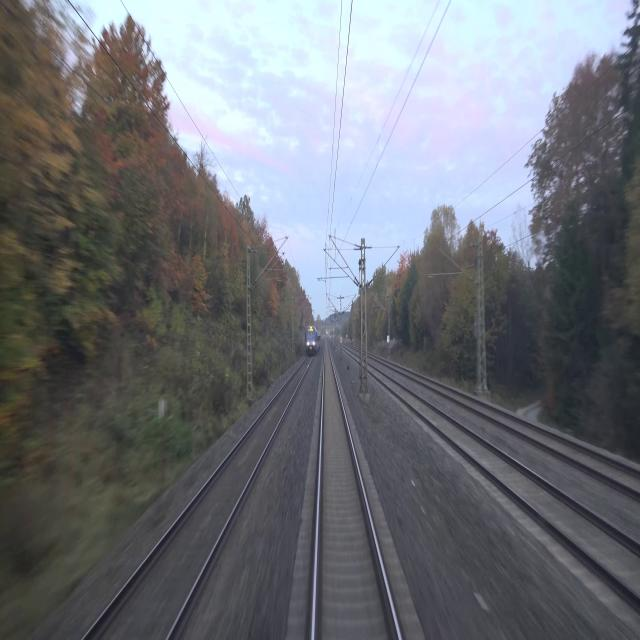rail-track: (88, 355, 310, 639), (368, 366, 640, 595), (316, 346, 397, 639), (435, 385, 640, 487)
